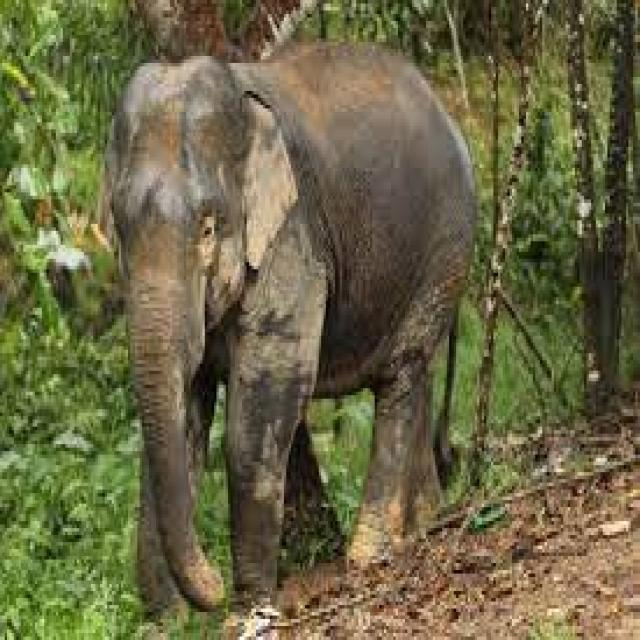Elephant: (84, 33, 506, 617)
